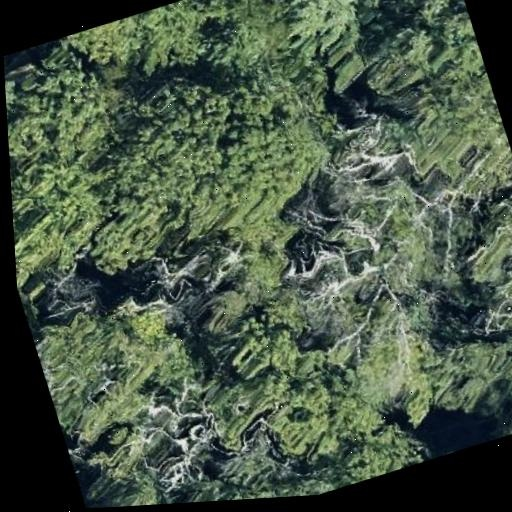tree-top: (96, 43, 342, 251), (29, 286, 212, 450), (356, 6, 510, 178), (230, 329, 386, 466), (56, 0, 223, 104), (8, 134, 115, 279), (192, 203, 314, 321), (273, 0, 400, 105), (430, 179, 512, 339), (2, 33, 102, 142), (326, 407, 438, 488), (201, 0, 297, 83), (158, 459, 276, 504), (81, 455, 172, 509), (3, 55, 29, 148), (383, 0, 462, 28)
